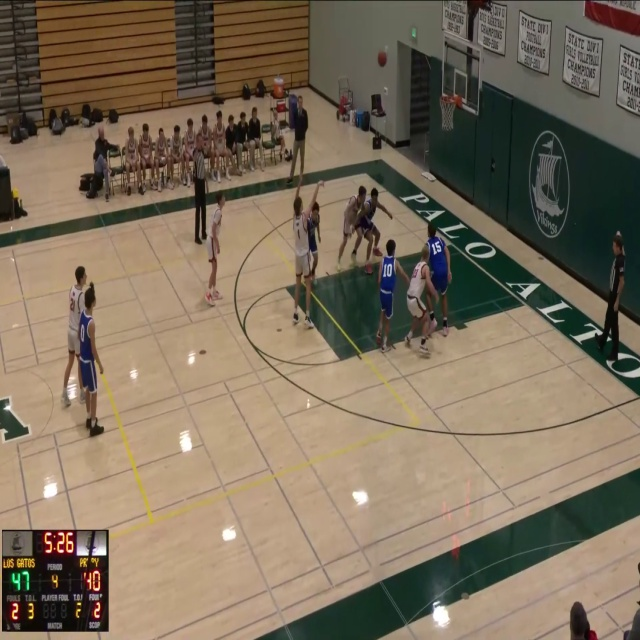Basketball: (377, 51, 387, 66)
